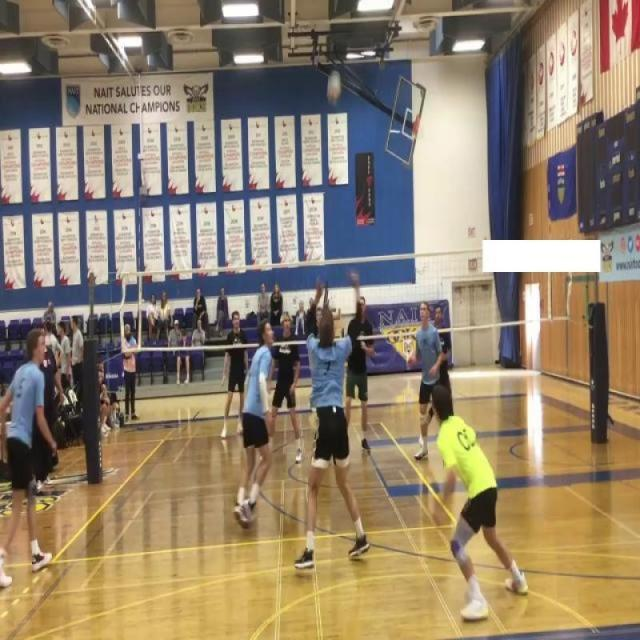volleyball: (326, 66, 343, 110)
